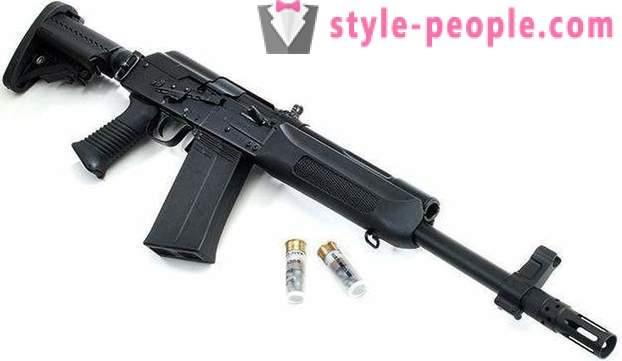larga: (1, 0, 618, 360)
